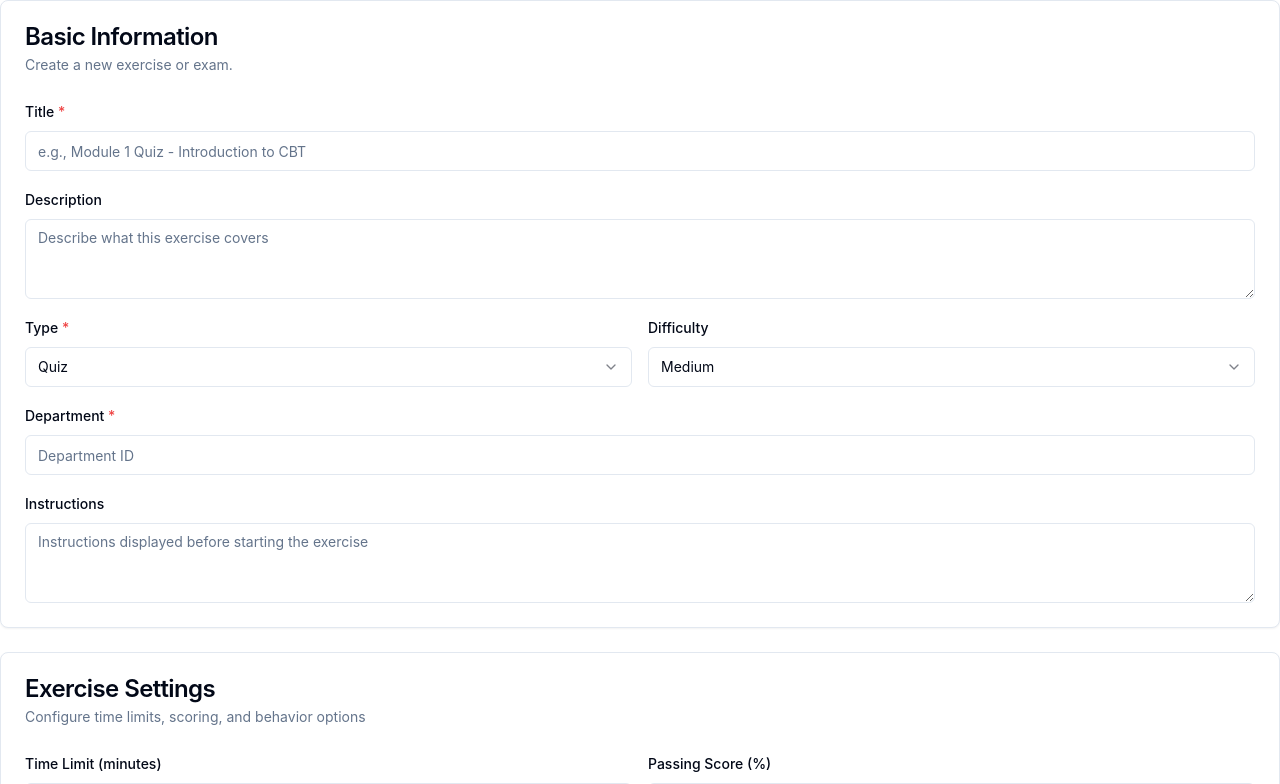
Scenario: ExerciseForm › Exercise Type Selection › should allow selecting practice type
Click the dropdown named "Type": point(53, 366) [25,347,632,387]
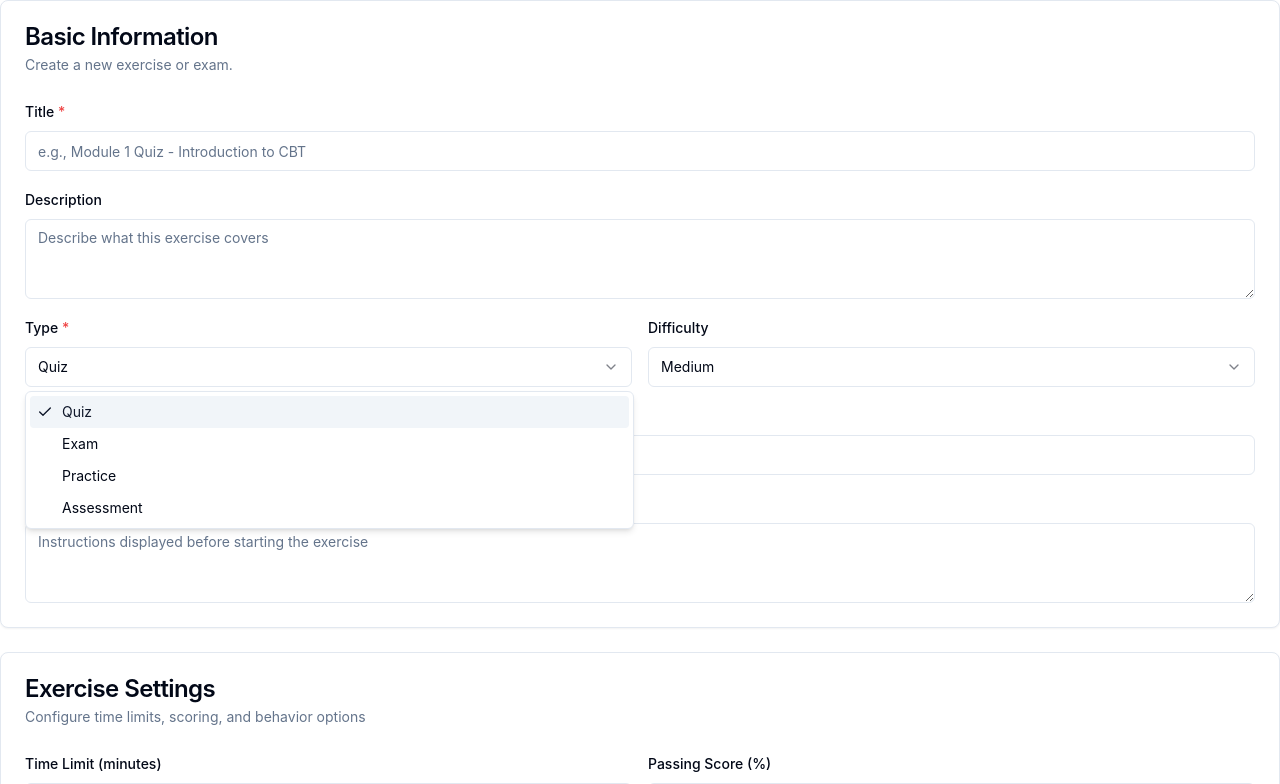
Click the option "Practice": point(89, 476) [62,467,116,484]
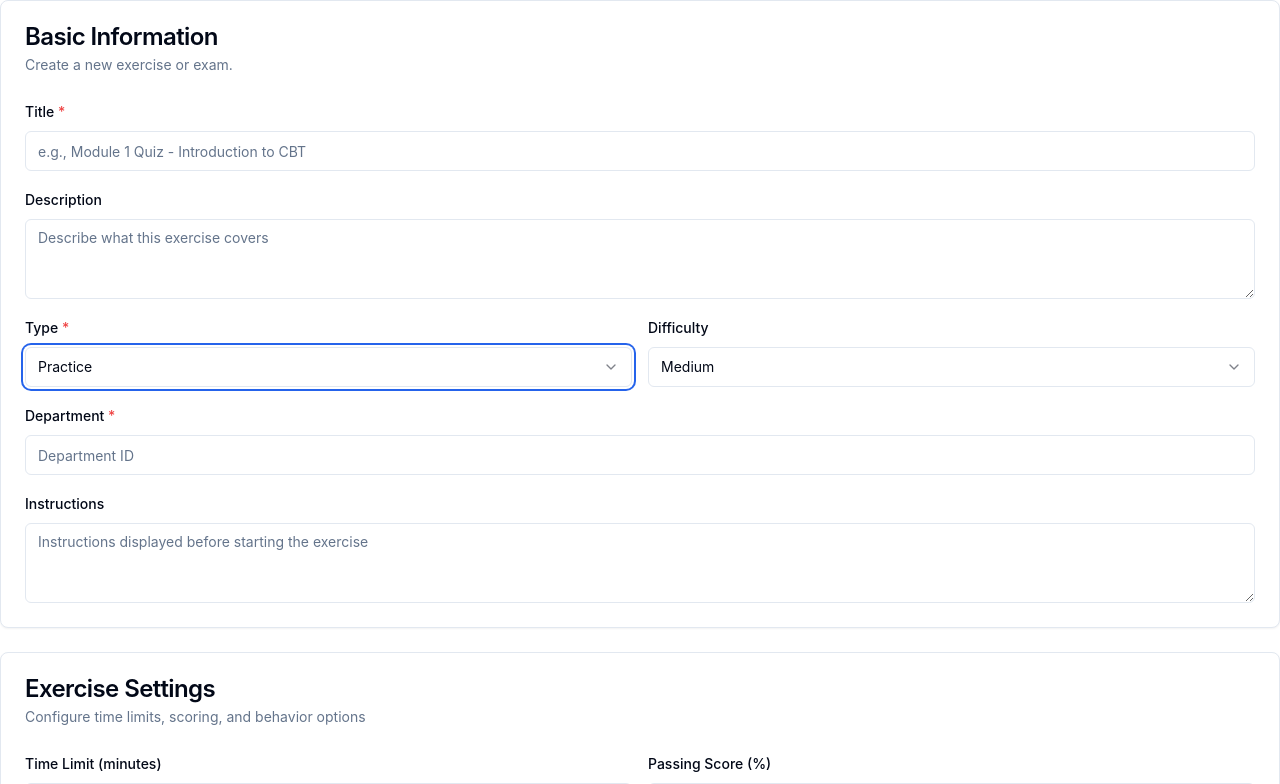
Now the dropdown named "Type" reads "Practice", box [25,347,632,387]
